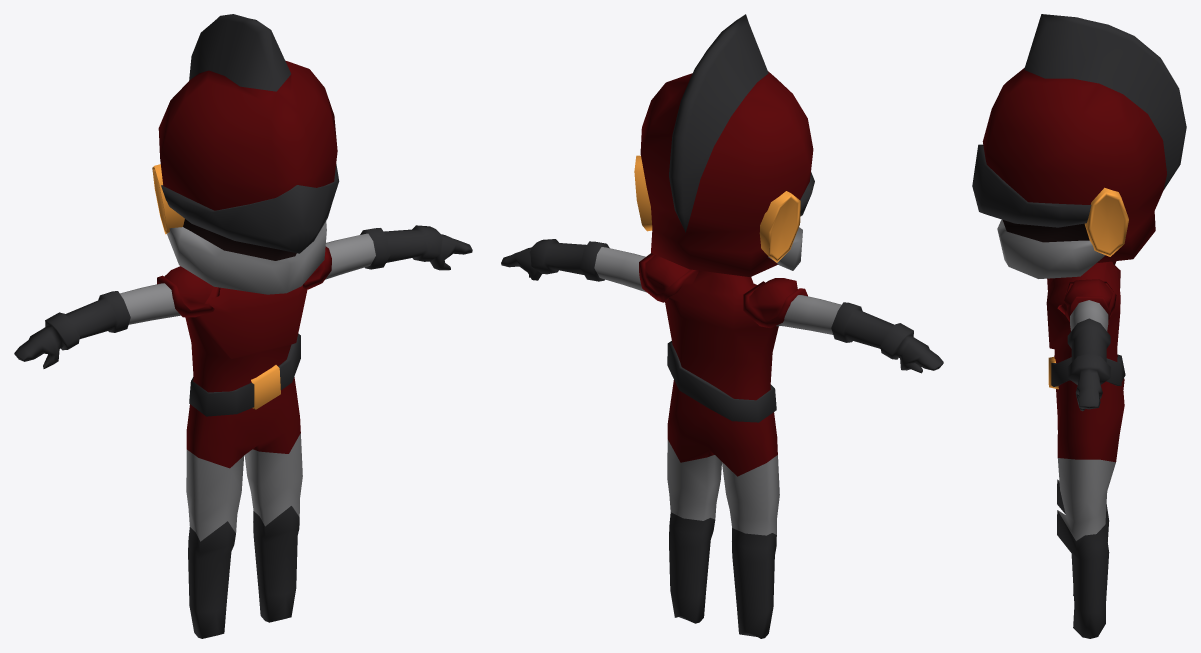
Rendered from SK_enemy_Test.fbx.
3 renders of one model, left to right at view 1: azimuth 30°, elevation 25°; view 2: azimuth 150°, elevation 25°; view 3: azimuth 270°, elevation 25°, orthographic. The views are drawn at different scales.
Visible parts, largest first — view 1: SK_Enemy; view 2: SK_Enemy; view 3: SK_Enemy.
Part boxes in pixels (<box>): SK_Enemy: <box>14,14,472,638</box>; SK_Enemy: <box>501,14,943,638</box>; SK_Enemy: <box>972,14,1186,638</box>.
Size of the model in its own units: 163 by 212 by 68.37.
Materials: 1 (1 with a texture image).
